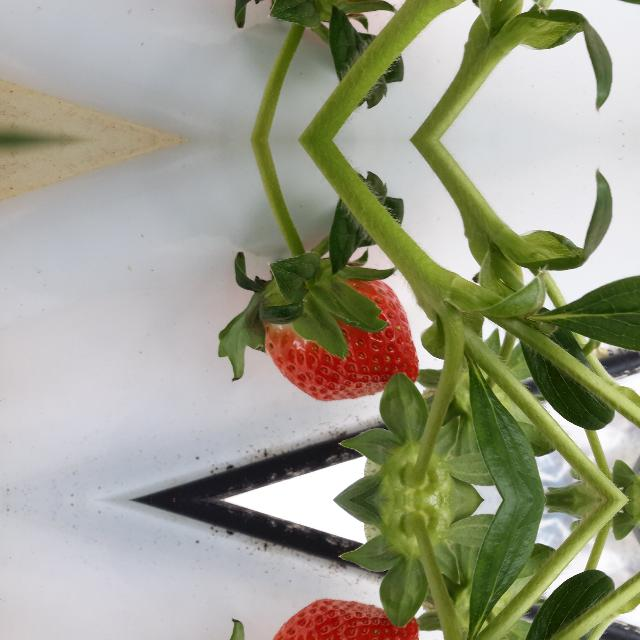Health_100: (262, 278, 422, 402), (262, 598, 422, 640)
